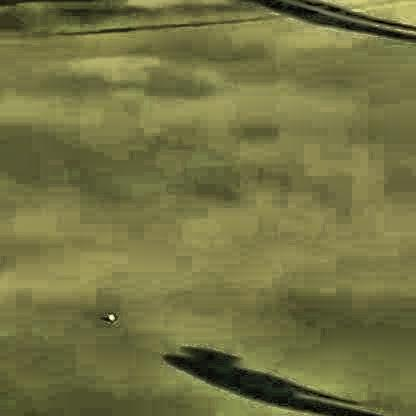golfball: (104, 308, 115, 319)
